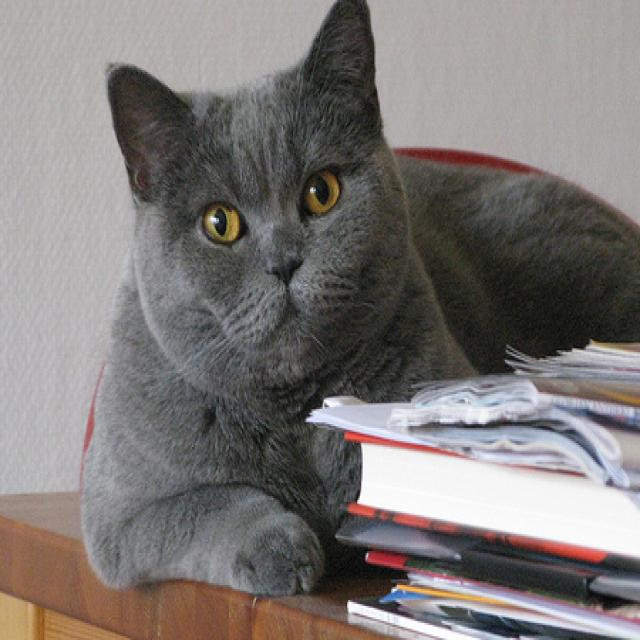British Shorthair: (77, 0, 640, 596)
